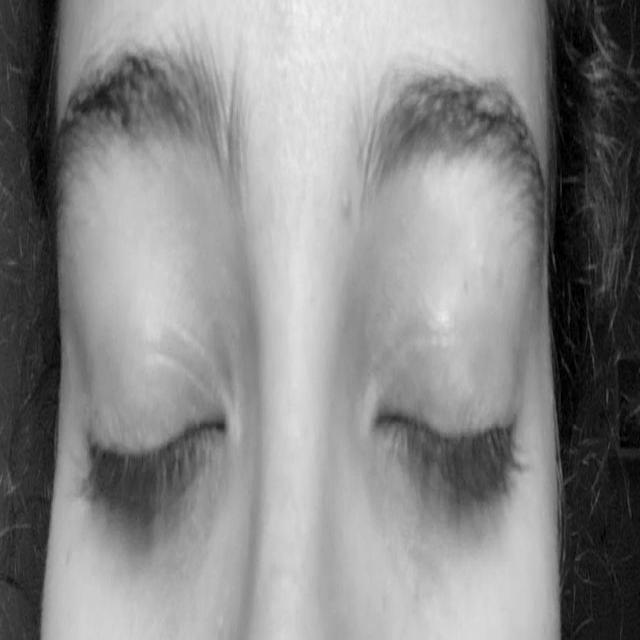real: (74, 216, 532, 590)
